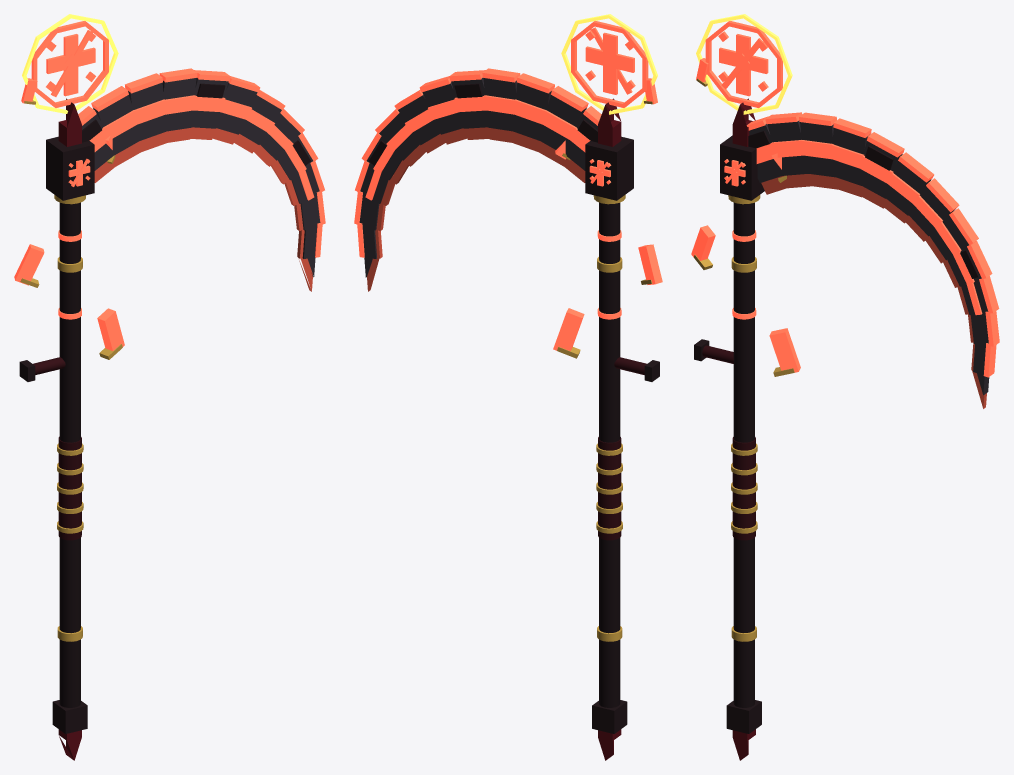
3 renders of one model, left to right at view 1: azimuth 30°, elevation 25°; view 2: azimuth 150°, elevation 25°; view 3: azimuth 330°, elevation 25°, orthographic.
Parts seen in each view (by area): view 1: red-harvest; view 2: red-harvest; view 3: red-harvest.
Part boxes in pixels (x1,y1,x2,y2): red-harvest: (14, 14, 325, 760); red-harvest: (354, 14, 662, 760); red-harvest: (691, 14, 999, 760).
Bounding box in the file's own units: 0.8804 × 2.04 × 0.1053.
